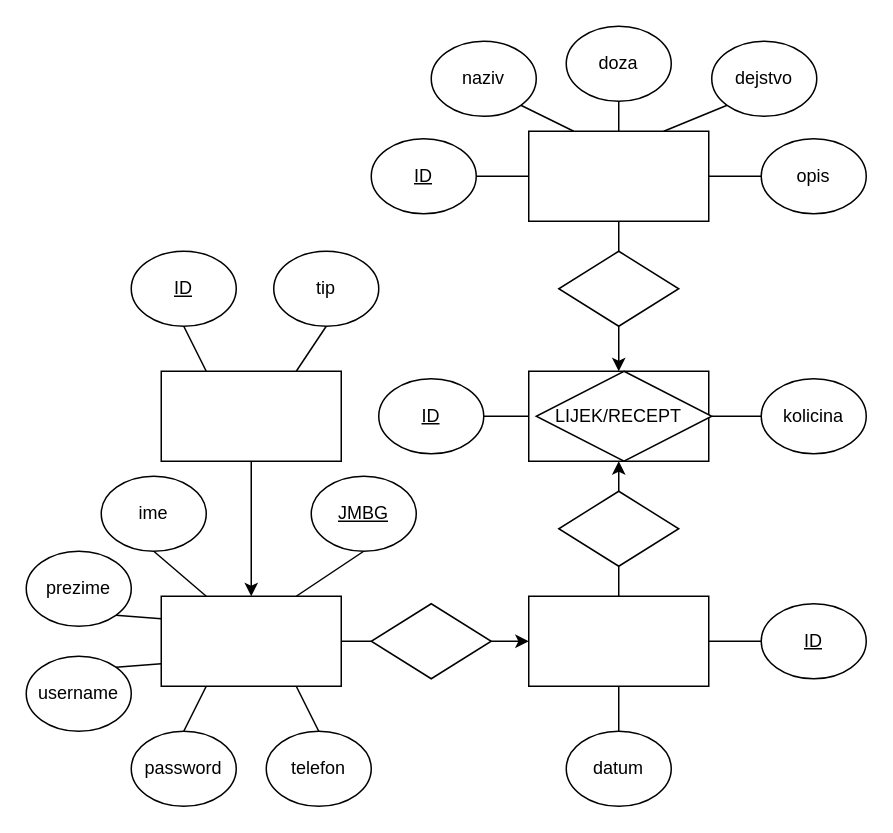
This 893x833 diagram has some shape labels left out. Here are the shapes that lost their labels. From the top down, the centre of each, then its label:
At point (618, 175): "LIJEK".
At point (250, 415): "TIP_KORISNIKA".
At point (250, 640): "KORISNIK".
At point (618, 640): "RECEPT".
